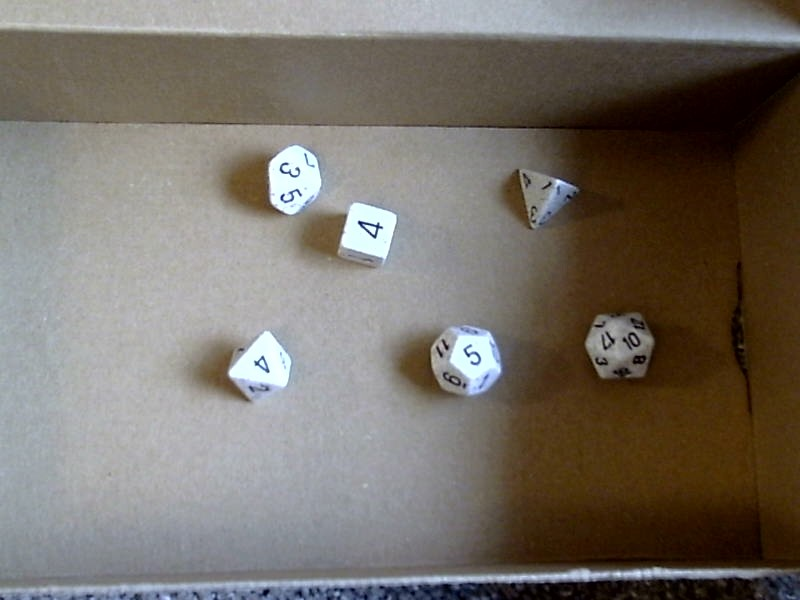d10 3: (260, 139, 326, 219)
d12 5: (423, 316, 513, 402)
d20 10: (581, 305, 661, 386)
d4 1: (509, 161, 584, 234)
d6 4: (333, 197, 399, 272)
d8 4: (222, 328, 297, 408)
